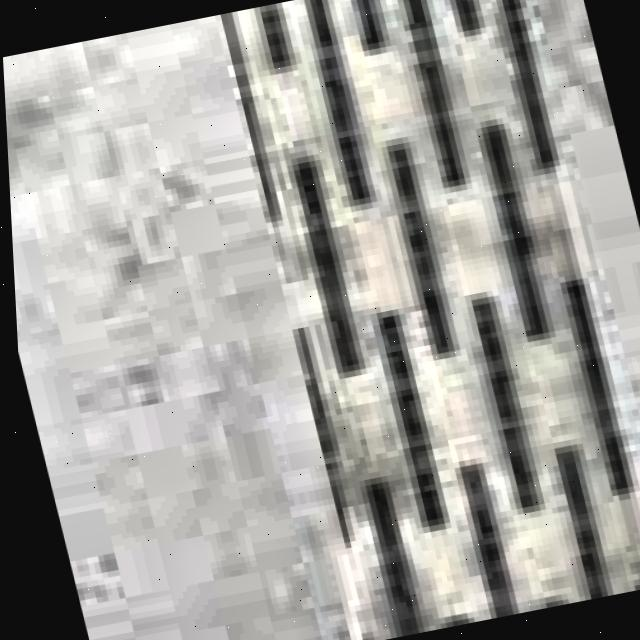paper: (217, 0, 640, 640)
